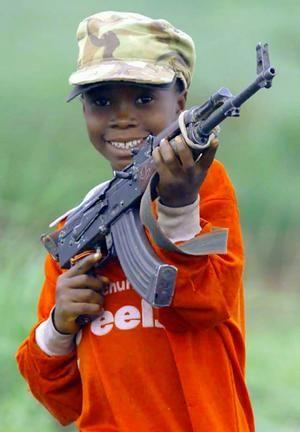larga: (41, 43, 277, 307)
